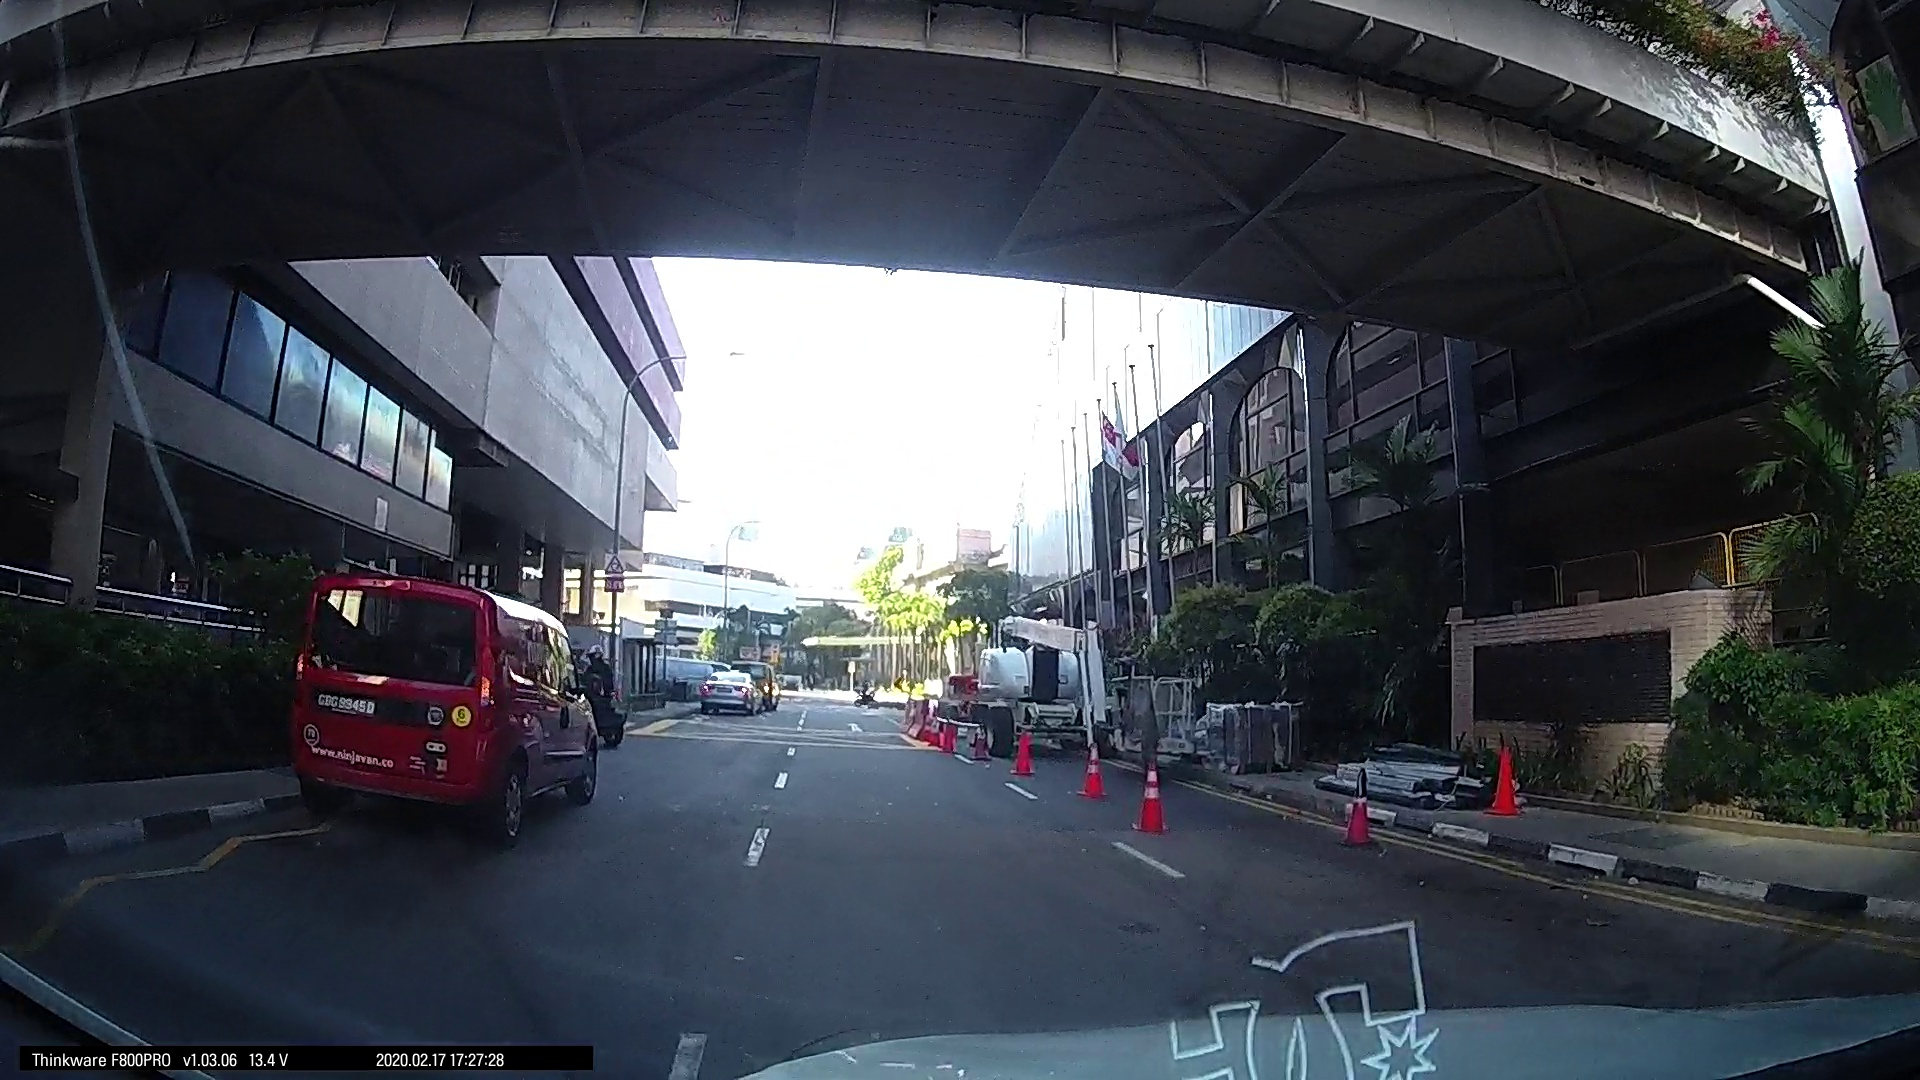Light Vehicle: (3, 592, 564, 1006), (276, 640, 707, 919), (646, 641, 818, 804), (1433, 665, 1631, 800), (843, 620, 942, 716), (1356, 682, 1437, 761), (1302, 684, 1382, 748), (1133, 650, 1193, 708), (1009, 654, 1058, 698), (938, 645, 977, 684)
